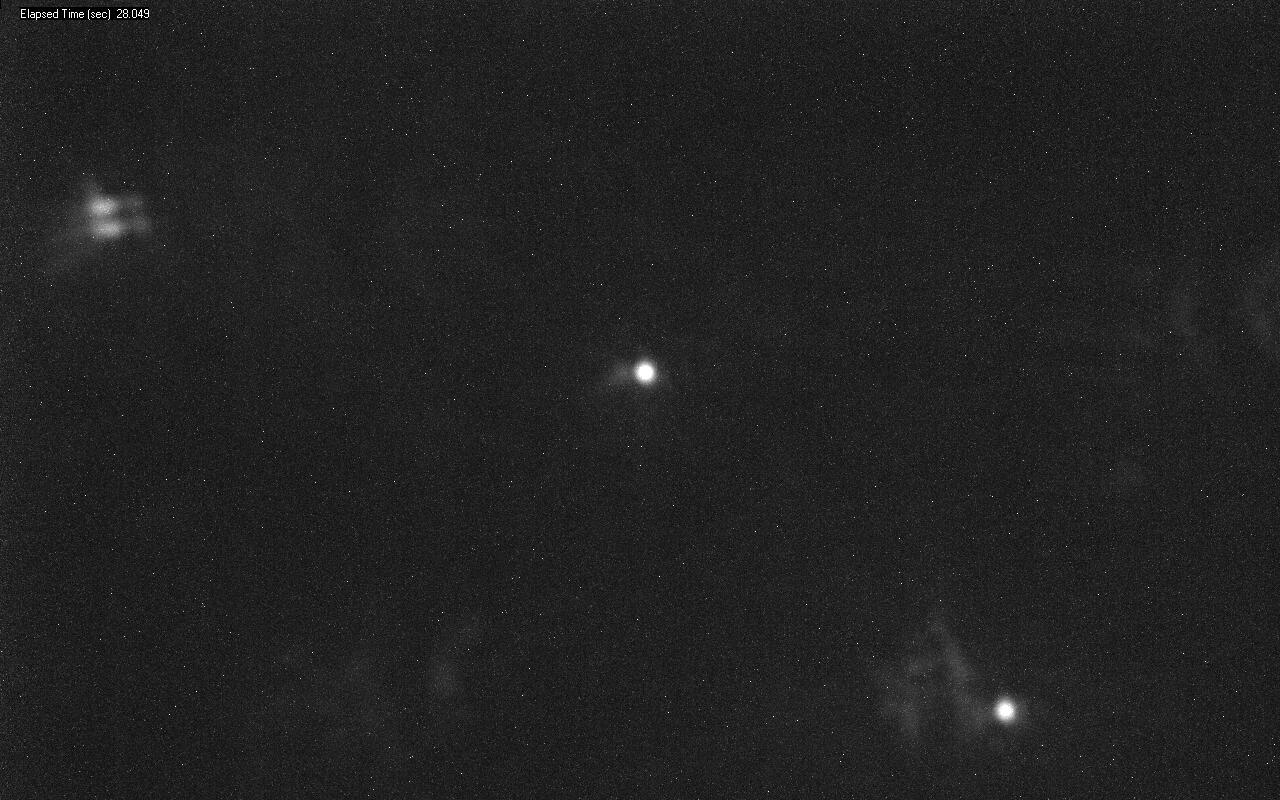Bead: (992, 696, 1019, 724), (633, 360, 656, 385)
